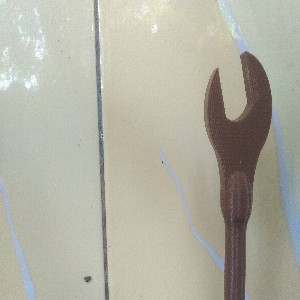spanner: (203, 49, 273, 300)
